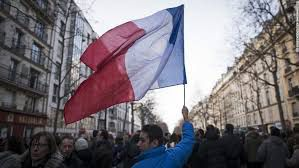French Flag: (66, 5, 184, 122)
